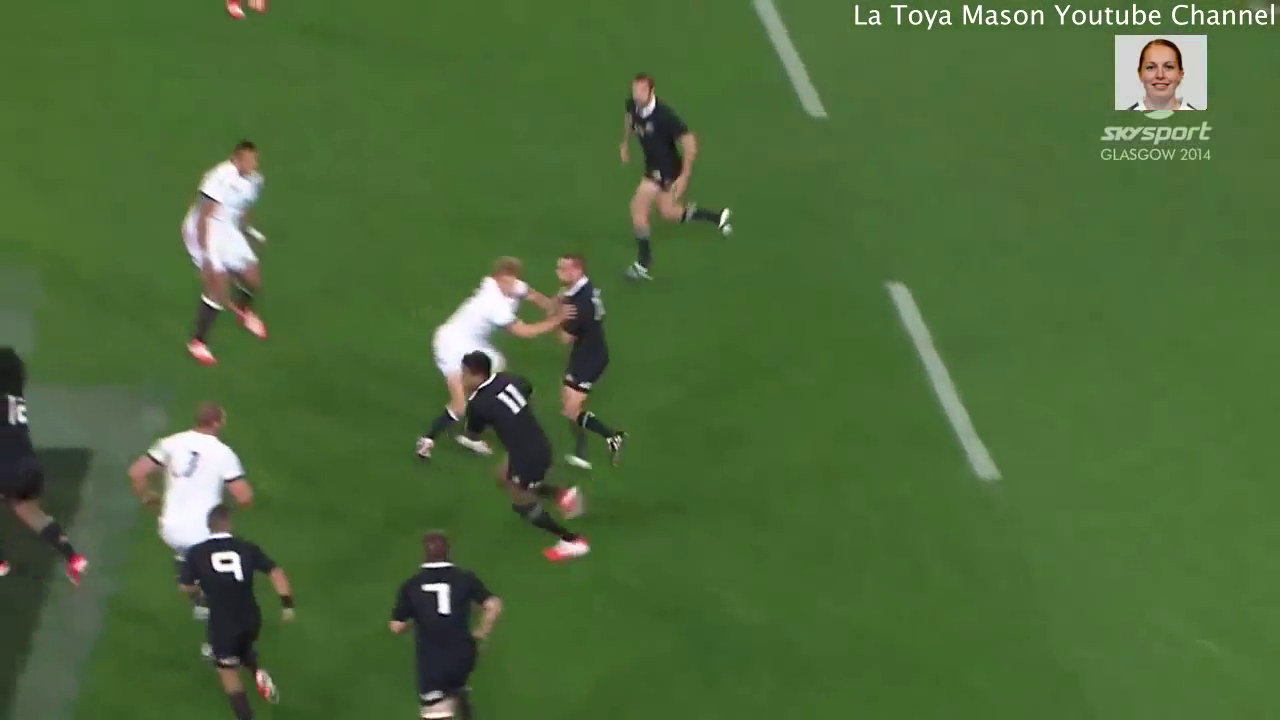player: (400, 240, 575, 466), (449, 346, 604, 571), (597, 66, 746, 296), (166, 497, 303, 720), (164, 128, 289, 369), (114, 392, 251, 592), (528, 247, 642, 484), (375, 520, 506, 720), (1, 331, 95, 606)
